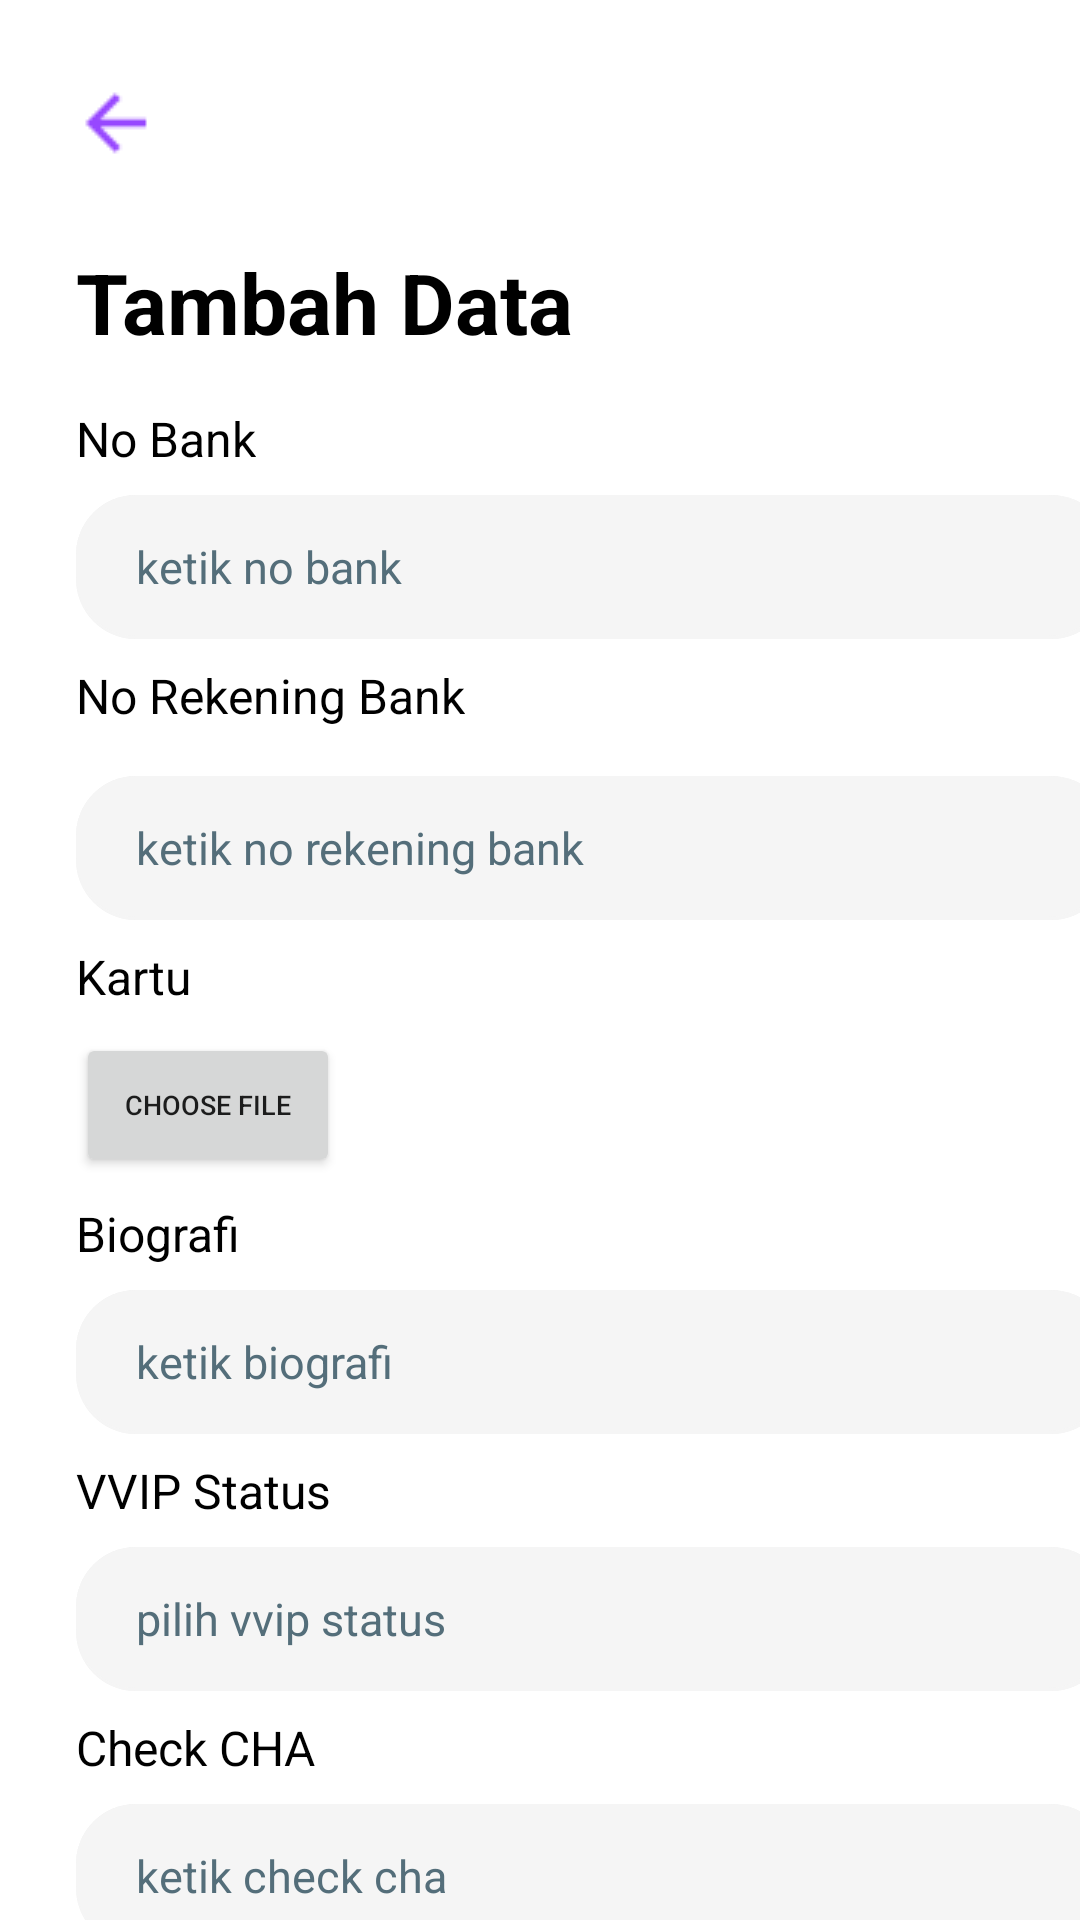

Named icons in this screenshot (1080w x 1920h) and their centers, [x,y]:
arrow left: [116,123]
